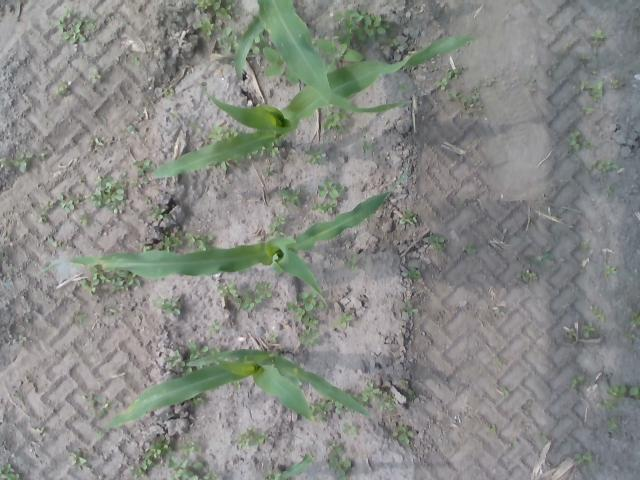Maize: (43, 158, 410, 309), (152, 36, 475, 177), (88, 348, 370, 445), (234, 0, 408, 113), (272, 453, 314, 480)
Weeds: (332, 7, 393, 46), (286, 289, 325, 347), (168, 440, 220, 480), (446, 78, 496, 118), (130, 432, 170, 480), (55, 5, 98, 46), (217, 280, 272, 312), (90, 174, 130, 214), (310, 176, 344, 216), (324, 438, 353, 478), (317, 38, 363, 61), (82, 394, 120, 418), (0, 150, 34, 176), (194, 0, 236, 21), (231, 428, 268, 451), (78, 268, 110, 293), (132, 157, 157, 187), (261, 46, 284, 78), (110, 270, 142, 292), (144, 196, 172, 221), (322, 108, 352, 131), (151, 292, 181, 315), (351, 380, 380, 403), (566, 132, 599, 152), (196, 17, 222, 42), (522, 253, 556, 270), (161, 229, 185, 253), (216, 26, 238, 52), (58, 192, 84, 214), (187, 232, 216, 251), (393, 423, 416, 446), (580, 80, 604, 102), (278, 186, 302, 207), (36, 199, 54, 226), (204, 123, 240, 136), (587, 158, 616, 174), (164, 350, 185, 371), (268, 212, 290, 232), (186, 342, 211, 359), (312, 398, 333, 418), (69, 448, 90, 467), (306, 146, 326, 165), (400, 299, 420, 318), (0, 462, 21, 480), (331, 312, 354, 328), (427, 235, 447, 253), (606, 383, 627, 400), (208, 318, 224, 340), (590, 304, 608, 323), (574, 450, 592, 467), (580, 320, 597, 338), (76, 210, 95, 226), (69, 312, 90, 326), (517, 269, 538, 283), (253, 35, 265, 58), (446, 64, 463, 79), (340, 422, 358, 436), (399, 212, 418, 225), (284, 70, 299, 86), (210, 160, 230, 172), (580, 239, 594, 256), (54, 81, 72, 94), (376, 399, 394, 412), (92, 66, 104, 85), (590, 28, 604, 44), (88, 136, 105, 149), (571, 373, 588, 386), (190, 396, 208, 408), (598, 398, 616, 410), (628, 310, 640, 328), (610, 77, 626, 90), (606, 416, 618, 433), (345, 253, 357, 270), (12, 332, 32, 342), (33, 426, 49, 438), (433, 77, 447, 90), (492, 354, 505, 368), (581, 106, 596, 118), (629, 386, 640, 402), (604, 264, 620, 275), (407, 267, 423, 278), (268, 142, 280, 156), (578, 54, 592, 66), (102, 306, 118, 316), (398, 81, 410, 94), (488, 422, 501, 434), (405, 390, 418, 402), (264, 469, 278, 480), (190, 122, 202, 134), (126, 124, 138, 136), (264, 331, 280, 340), (465, 243, 478, 254), (47, 236, 59, 247), (564, 330, 578, 339), (362, 140, 372, 152), (233, 380, 245, 390), (524, 76, 538, 84), (132, 55, 142, 66), (501, 388, 512, 398), (247, 150, 258, 160), (41, 148, 49, 161), (390, 38, 400, 48), (264, 166, 274, 176), (163, 87, 174, 96), (400, 378, 409, 388), (604, 186, 613, 196), (627, 332, 638, 340), (588, 68, 598, 76), (456, 198, 464, 206), (79, 174, 86, 183), (260, 147, 266, 157), (540, 434, 547, 442)
